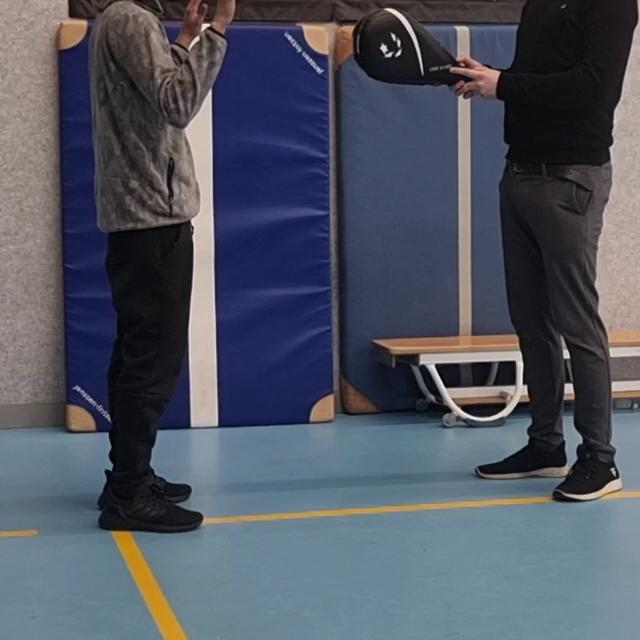paddle: (353, 6, 465, 86)
